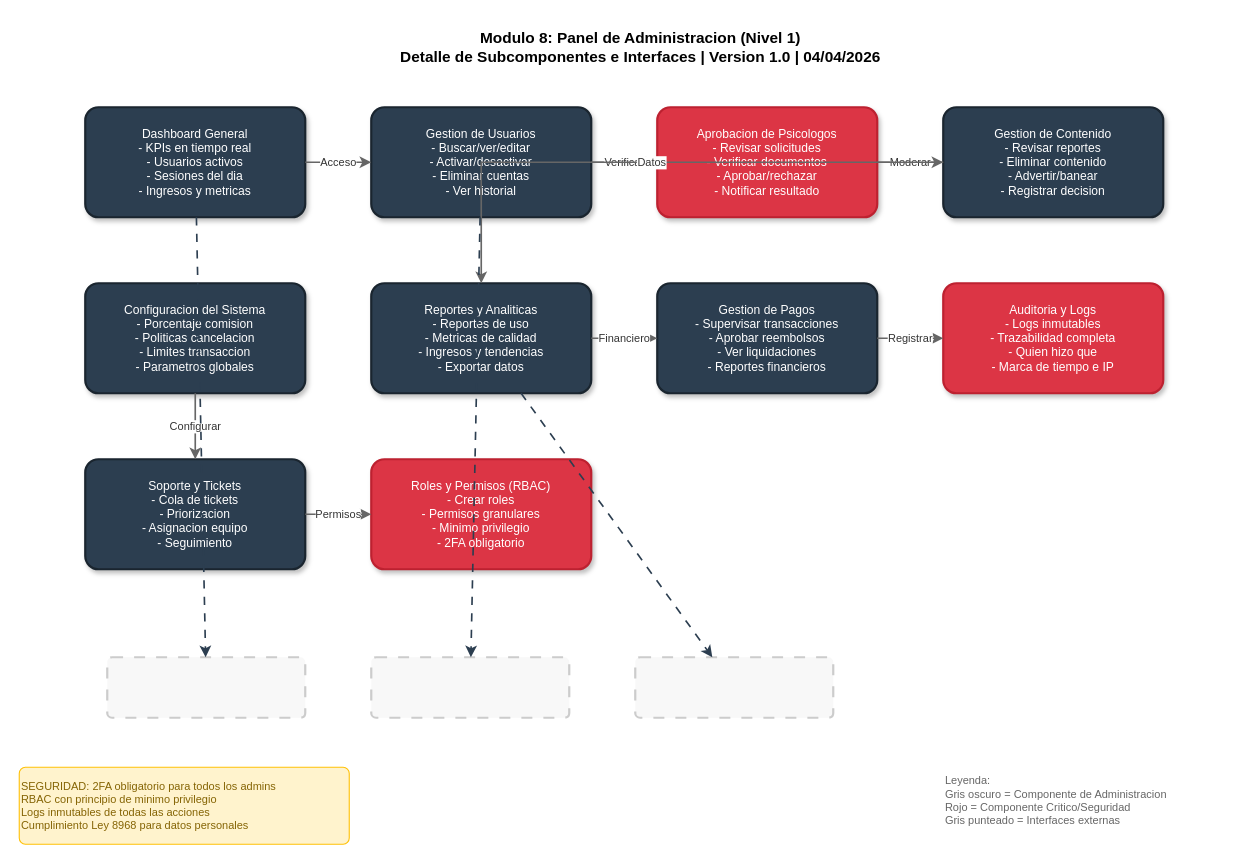
This 1238x864 diagram has some shape labels left out. The shapes that lost their labels are listed below. From the top down, each one's centre as x and y in pixels, then its label:
(206,687): -> Autenticacion 2FA obligatorio para admin
(470,687): -> Todos los Modulos Lectura/esc segun permisos
(734,687): -> Base de Datos Consultas administrativas
